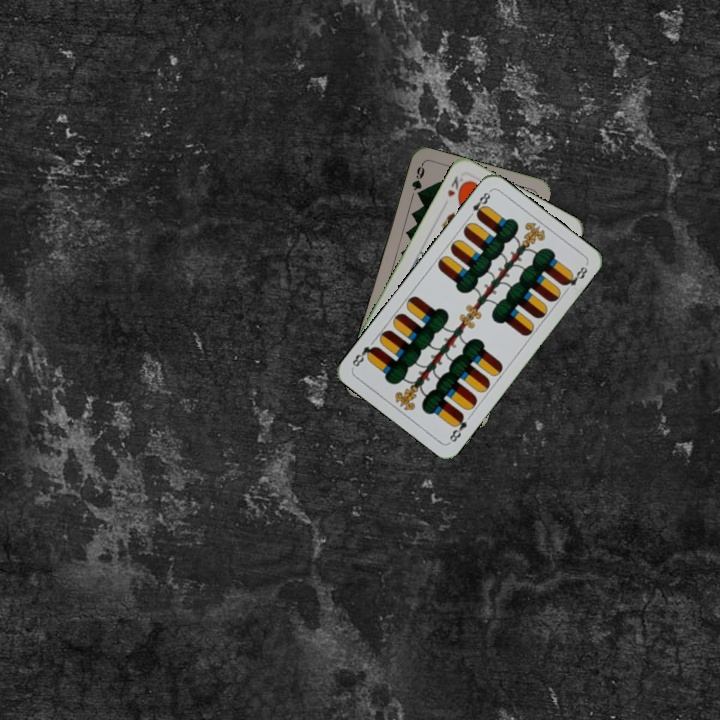E8: (464, 187, 493, 221), (445, 409, 470, 446)
G9: (407, 161, 427, 201)
HK: (443, 172, 468, 200)
